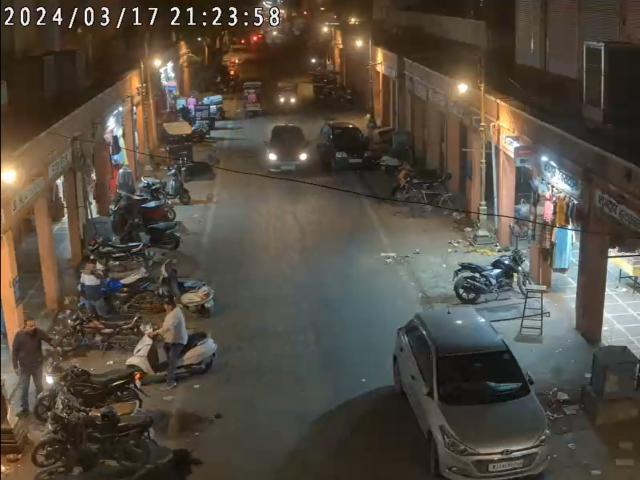car: (394, 300, 562, 478)
motorbike: (36, 406, 156, 472), (36, 358, 146, 414), (455, 248, 538, 304), (58, 306, 141, 351), (89, 235, 145, 274)
no_helmet: (163, 295, 177, 312)
person: (12, 318, 55, 422), (72, 256, 108, 316)
scooty: (158, 254, 214, 318)
scooty-rider: (126, 293, 215, 385)
